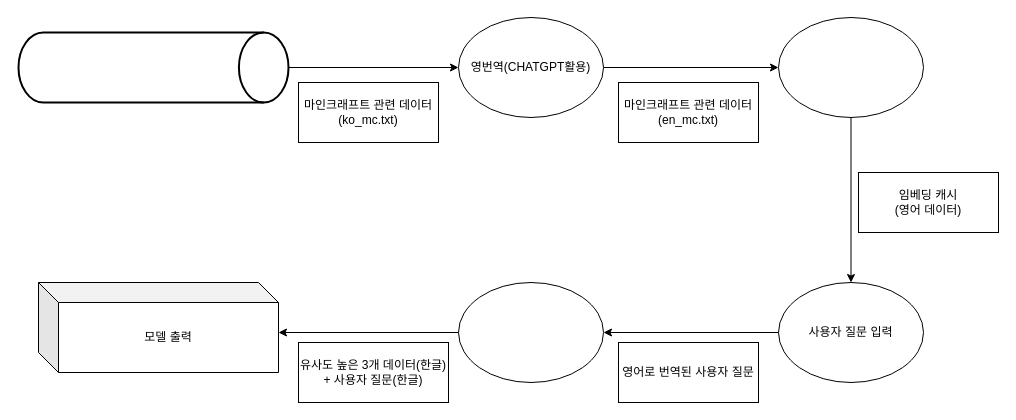
The diagram is 1016 pixels wide and 420 high, and some of its shapes have lost their labels. The box of each missing label's shape, as (x1, y1, x2, y2) in pixels:
FAISS 임베딩: (778, 16, 924, 118)
FAISS 임베딩 데이터와 유사도 분석: (458, 282, 604, 382)
마인크래프트 데이터 수집 (몬스터, 지형, 아이템 레시피...): (17, 31, 289, 103)
